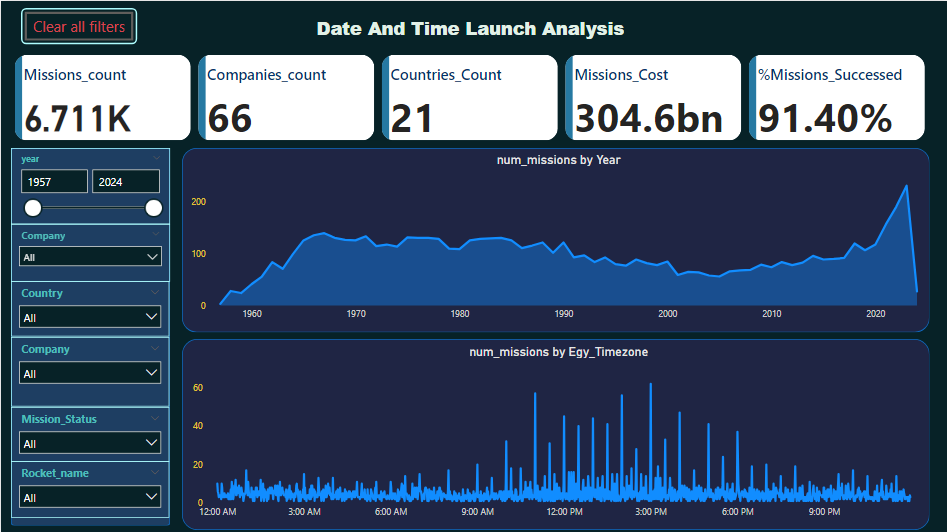

What the dashboard file says about the page in this screenshot:
{"tool":"powerbi","page":{"name":"Date & Time Analysis","canvas":[1280,720],"ordinal":6},"visuals":[{"type":"shape","box":[244.8,456.7,1010.4,258.2],"z":0},{"type":"shape","box":[244.8,198.5,1010.4,249.3],"z":1000},{"type":"textbox","box":[176.1,14.9,925.4,52.2],"z":2000},{"type":"cardVisual","fields":{"Data":["KPIs.num_missions","KPIs.num_companies","KPIs.num_country_launch","KPIs.missions_cost","KPIs.%Missions_Successed"]},"box":[13.2,67.1,1242.1,126.3],"z":3000},{"type":"areaChart","fields":{"Y":["KPIs.num_missions"],"Category":["Date_Launch_Dim.Date_only.Variation.Date Hierarchy.Year","Date_Launch_Dim.Date_only.Variation.Date Hierarchy.Quarter","Date_Launch_Dim.Date_only.Variation.Date Hierarchy.Month"]},"box":[250.7,204.5,1004.5,237.3],"z":4000},{"type":"lineChart","fields":{"Y":["KPIs.num_missions"],"Category":["Time_launch_Egy_Dim.Egy_Timezone"]},"box":[250.7,464.2,1004.5,244.8],"z":5000},{"type":"shape","box":[13.4,198.5,214.9,510.4],"z":6000},{"type":"slicer","fields":{"Values":["Location_Dim.Country"]},"box":[13.9,378.9,214,75.4],"z":7000},{"type":"slicer","fields":{"Values":["Company_Dim.Company"]},"box":[13.9,454.3,214,93.9],"z":8000},{"type":"slicer","fields":{"Values":["MissionStatus_Dim.Mission_Status"]},"box":[13.9,548.2,214,73.9],"z":9000},{"type":"slicer","fields":{"Values":["Rocket_Dim.Rocket_name"]},"box":[13.9,622.1,214,77],"z":10000},{"type":"slicer","fields":{"Values":["Date_Launch_Dim.year"]},"box":[13.4,198.5,214.9,103],"z":11000},{"type":"slicer","fields":{"Values":["Company_Dim.Company"]},"box":[13.4,301.5,214.9,77.6],"z":12000},{"type":"actionButton","box":[26.9,9,156.7,49.3],"z":13000}]}

Visuals, with their boxes in screenshot pixels (x1, y1, x2, y2), scaled from the page's 1280x720 canvas onto the 947x532 screenshot:
shape: box(181, 337, 929, 528)
shape: box(181, 147, 929, 331)
textbox: box(130, 11, 815, 50)
cardVisual - KPIs.num_missions x KPIs.num_companies: box(10, 50, 929, 143)
areaChart - KPIs.num_missions x Date_Launch_Dim.Date_only.Variation.Date Hierarchy.Year: box(185, 151, 929, 326)
lineChart - KPIs.num_missions x Time_launch_Egy_Dim.Egy_Timezone: box(185, 343, 929, 524)
shape: box(10, 147, 169, 524)
slicer - Location_Dim.Country: box(10, 280, 169, 336)
slicer - Company_Dim.Company: box(10, 336, 169, 405)
slicer - MissionStatus_Dim.Mission_Status: box(10, 405, 169, 460)
slicer - Rocket_Dim.Rocket_name: box(10, 460, 169, 517)
slicer - Date_Launch_Dim.year: box(10, 147, 169, 223)
slicer - Company_Dim.Company: box(10, 223, 169, 280)
actionButton: box(20, 7, 136, 43)
